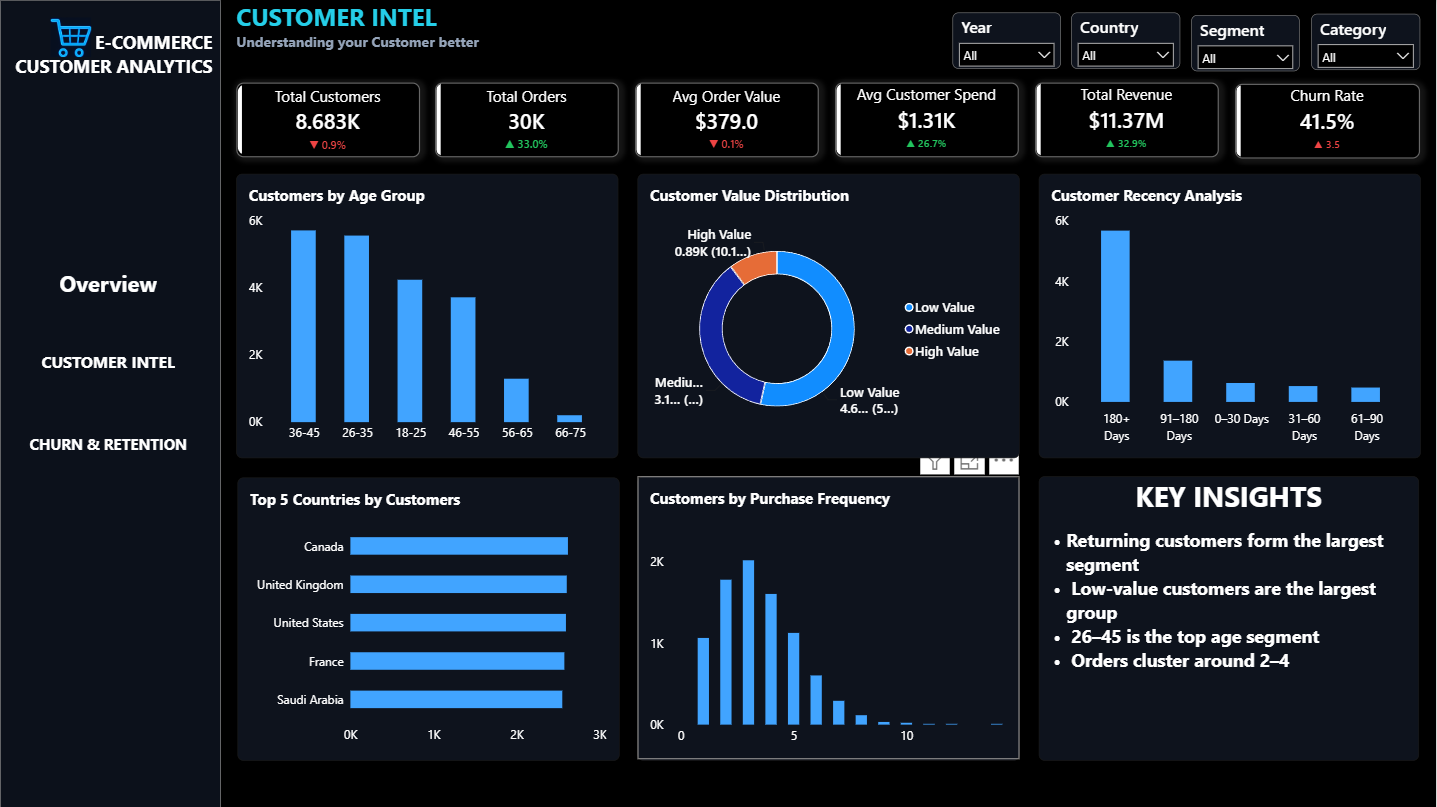

The page's visual inventory and layout, read from the dashboard file:
{"tool":"powerbi","page":{"name":"CUSTOMER INTEL","canvas":[1920,1080],"ordinal":1},"visuals":[{"type":"shape","box":[0,0,295,1080],"z":0},{"type":"textbox","box":[315.1,0,452.8,79.2],"z":1000},{"type":"cardVisual","fields":{"Data":["E-COM.Total Customers"]},"box":[315.1,109.4,245.3,100],"z":2000},{"type":"cardVisual","fields":{"Data":["E-COM.Total Orders"]},"box":[581.9,110.2,245.3,100],"z":3000},{"type":"cardVisual","fields":{"Data":["Sum(E-COM.ORDER_AMOUNT)"]},"box":[1382.3,110.9,245.3,100],"z":4000},{"type":"cardVisual","fields":{"Data":["E-COM.Average Order Value"]},"box":[848.7,109.8,245.3,100],"z":5000},{"type":"cardVisual","fields":{"Data":["E-COM.Churn Rate"]},"box":[1649.1,111.3,247.2,100],"z":6000},{"type":"clusteredColumnChart","title":"Customers by Age Group","fields":{"Category":["E-COM.Age Group"],"Y":["E-COM.Total Customers"]},"box":[316,232,510,380],"z":7000},{"type":"clusteredColumnChart","title":"Customers by Purchase Frequency","fields":{"Category":["Purchase Frequency.Value"],"Y":["Purchase Frequency.Customers by Purchase Frequency"]},"box":[852,636,510,380],"z":8000},{"type":"donutChart","title":"Customer Value Distribution","fields":{"Category":["E-COM.Customer Value Group1"],"Y":["Count(E-COM.CUSTOMER_ID)"]},"box":[852,232,510,380],"z":9000},{"type":"clusteredBarChart","title":"Top 5 Countries by Customers","fields":{"Category":["E-COM.COUNTRY"],"Y":["E-COM.Total Customers"]},"box":[318,638,510,378],"z":10000},{"type":"slicer","fields":{"Values":["E-COM.COUNTRY"]},"box":[1431.4,17.2,145.3,75.5],"z":11000},{"type":"slicer","fields":{"Values":["Calendar.Date.Variation.Date Hierarchy.Year"]},"box":[1271.7,16.1,145,75.5],"z":12000},{"type":"slicer","fields":{"Values":["E-COM.PRODUCT_CATEGORY"]},"box":[1750.9,18.3,145.3,75.5],"z":13000},{"type":"slicer","fields":{"Values":["E-COM.CUSTOMER_SEGMENT"]},"box":[1591.3,19.3,145,75],"z":14000},{"type":"actionButton","box":[26.4,443.4,235.8,81.1],"z":15000},{"type":"actionButton","box":[26.4,547.2,235.8,90.6],"z":16000},{"type":"actionButton","box":[26.4,337.7,235.8,83],"z":17000},{"type":"cardVisual","fields":{"Data":["E-COM.Avg Customer Lifetime Value"]},"box":[1115.5,110.6,245.3,100],"z":18000},{"type":"textbox","box":[1388,636,508,380],"z":19000},{"type":"textbox","box":[0,39.6,284,120],"z":20000},{"type":"image","box":[43.4,22.6,101.9,52.8],"z":21000},{"type":"clusteredColumnChart","title":"Customer Recency Analysis","fields":{"Category":["E-COM.Recency Bucket"],"Y":["Count(E-COM.CUSTOMER_ID)"]},"box":[1388,232,510,380],"z":22000}]}

Visuals, with their boxes in screenshot pixels (x1, y1, x2, y2), scaled from the page's 1920x1080 canvas onto the 1437x807 screenshot:
shape: box(0, 0, 221, 806)
textbox: box(236, 0, 575, 59)
cardVisual - E-COM.Total Customers: box(236, 82, 419, 156)
cardVisual - E-COM.Total Orders: box(436, 82, 619, 157)
cardVisual - Sum(E-COM.ORDER_AMOUNT): box(1035, 83, 1218, 158)
cardVisual - E-COM.Average Order Value: box(635, 82, 819, 157)
cardVisual - E-COM.Churn Rate: box(1234, 83, 1419, 158)
"Customers by Age Group" clusteredColumnChart: box(237, 173, 618, 457)
"Customers by Purchase Frequency" clusteredColumnChart: box(638, 475, 1019, 759)
"Customer Value Distribution" donutChart: box(638, 173, 1019, 457)
"Top 5 Countries by Customers" clusteredBarChart: box(238, 477, 620, 759)
slicer - E-COM.COUNTRY: box(1071, 13, 1180, 69)
slicer - Calendar.Date.Variation.Date Hierarchy.Year: box(952, 12, 1060, 68)
slicer - E-COM.PRODUCT_CATEGORY: box(1310, 14, 1419, 70)
slicer - E-COM.CUSTOMER_SEGMENT: box(1191, 14, 1300, 70)
actionButton: box(20, 331, 196, 392)
actionButton: box(20, 409, 196, 477)
actionButton: box(20, 252, 196, 314)
cardVisual - E-COM.Avg Customer Lifetime Value: box(835, 83, 1018, 157)
textbox: box(1039, 475, 1419, 759)
textbox: box(0, 30, 213, 119)
image: box(32, 17, 109, 56)
"Customer Recency Analysis" clusteredColumnChart: box(1039, 173, 1421, 457)
